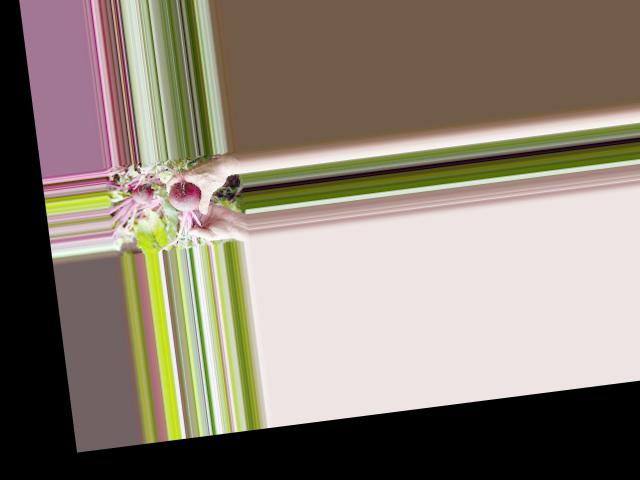beet: (149, 179, 209, 251)
